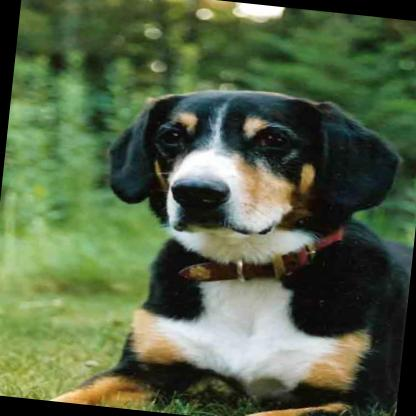EntleBucher: (36, 65, 416, 416)
